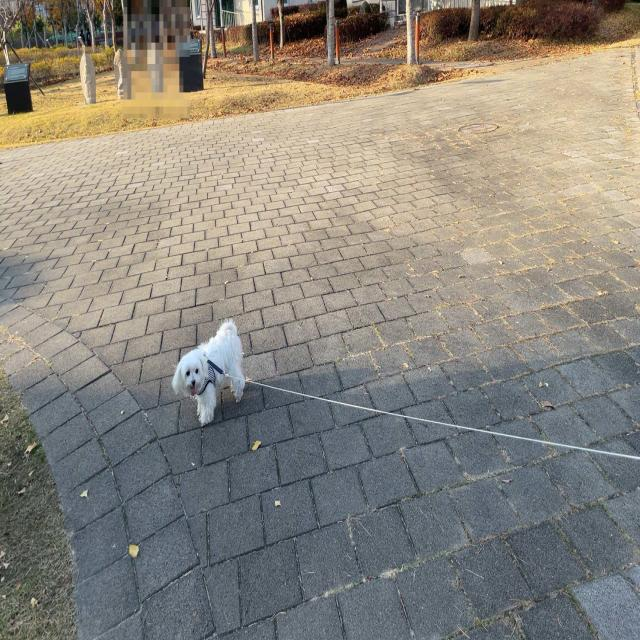Dog: (172, 316, 246, 426)
